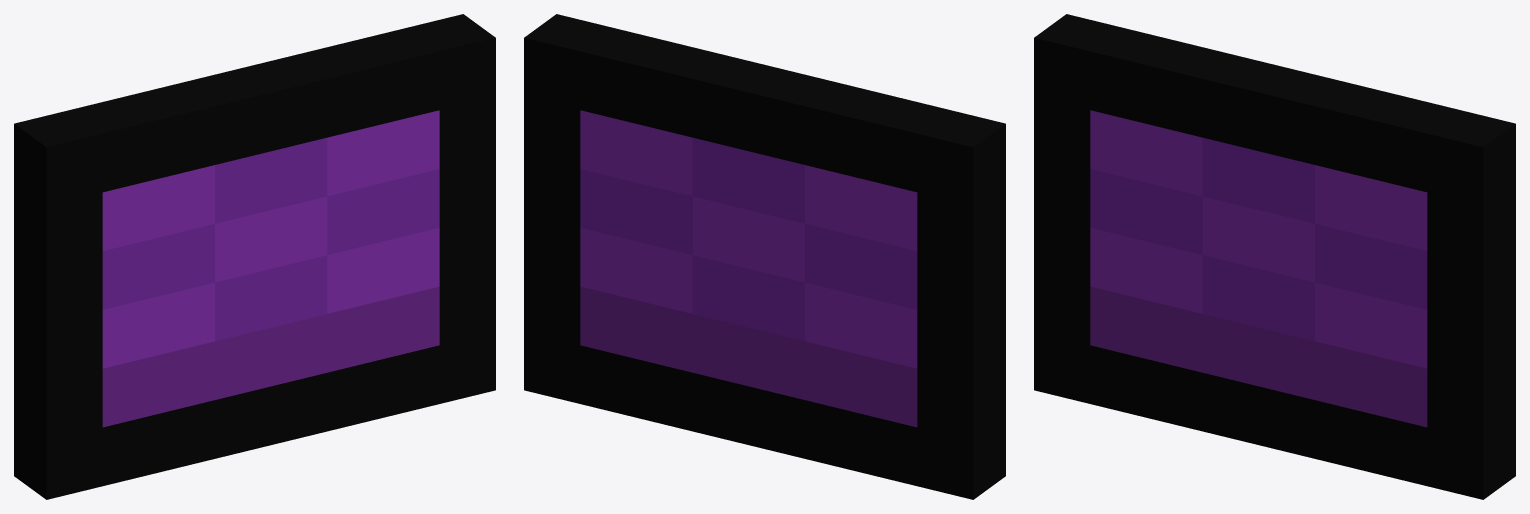
Rendered from Purple Carpet.glb.
3 views of the same model, side by side, from view 1: azimuth 30°, elevation 25°; view 2: azimuth 150°, elevation 25°; view 3: azimuth 330°, elevation 25° (orthographic).
Visible parts, largest first — view 1: generated(Clone); view 2: generated(Clone); view 3: generated(Clone).
Part boxes in pixels (x1=…): generated(Clone): x1=14, y1=14, x2=495, y2=499; generated(Clone): x1=524, y1=14, x2=1005, y2=499; generated(Clone): x1=1034, y1=14, x2=1515, y2=499.
Size of the model in its own units: 8 by 6 by 1.
Materials: 1 (1 with a texture image).
